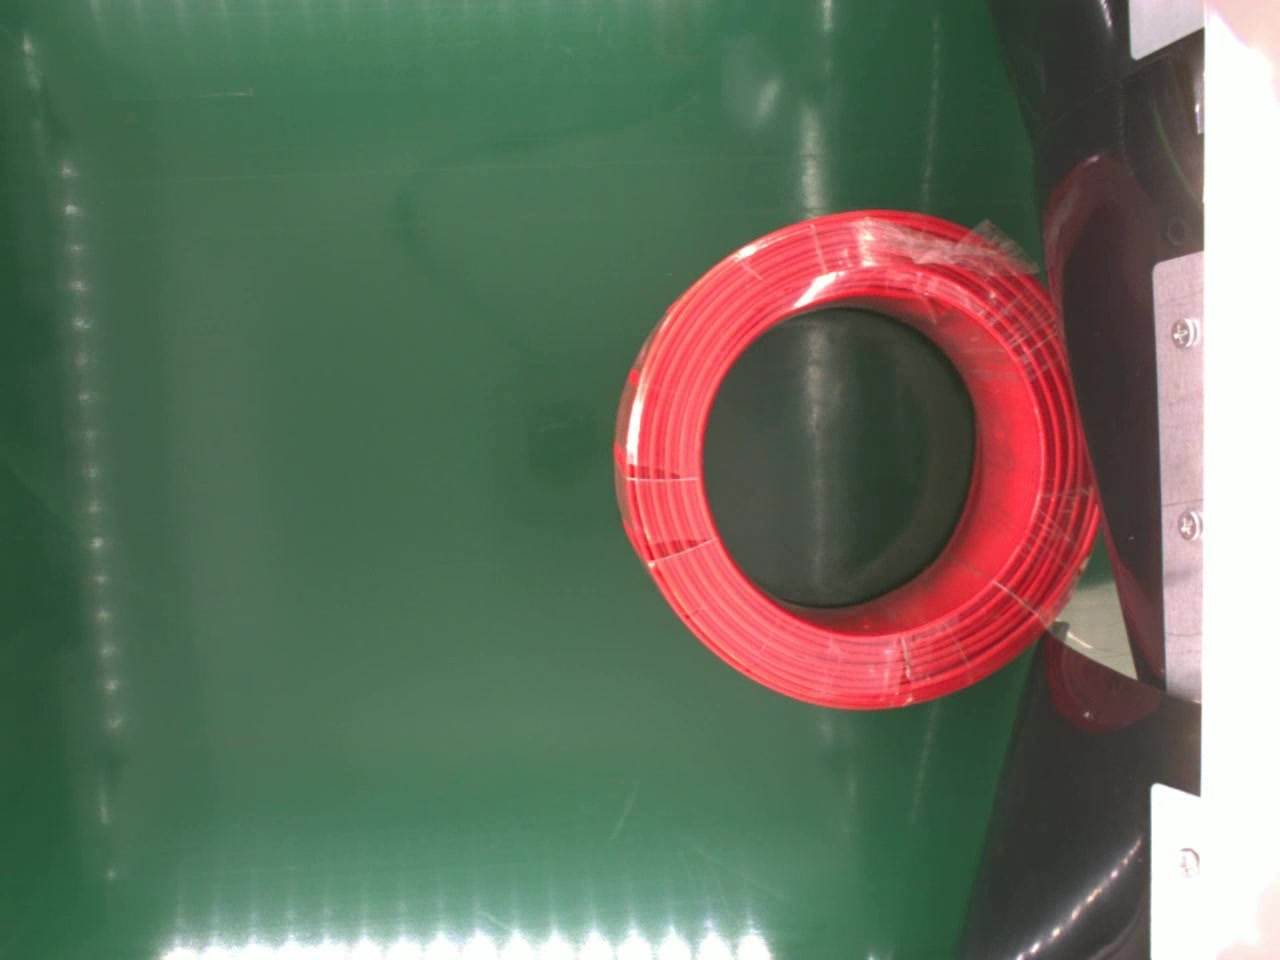red: (610, 208, 1100, 708)
